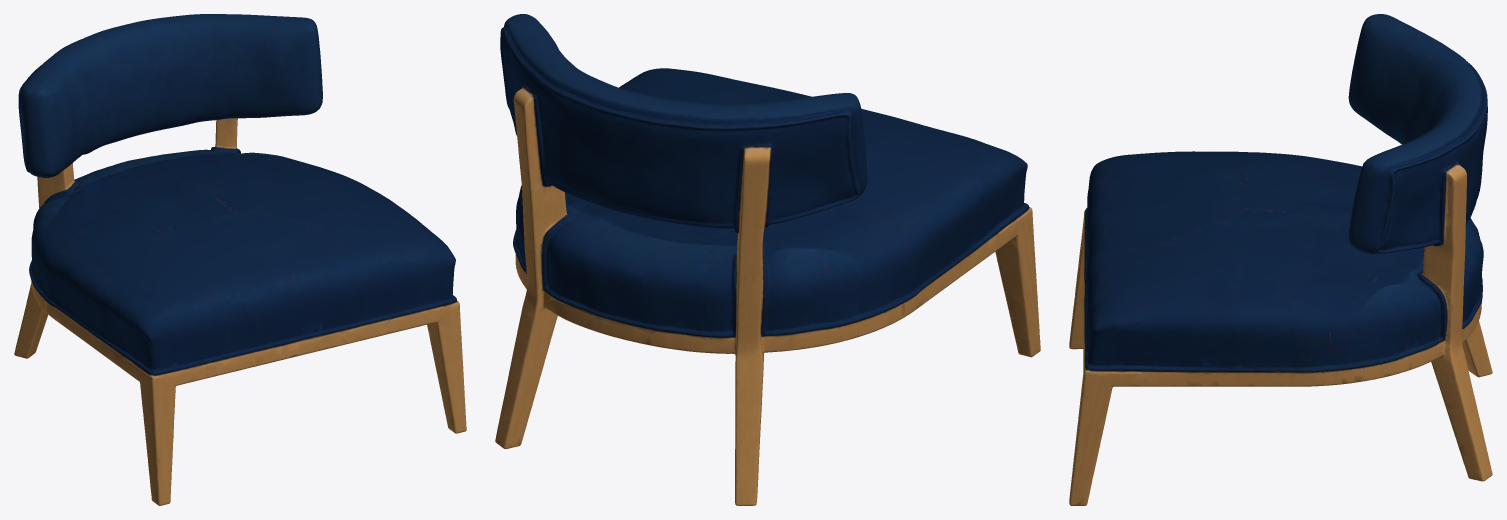
File: tri.glb
3 views of the same model, side by side, from view 1: azimuth 30°, elevation 25°; view 2: azimuth 150°, elevation 25°; view 3: azimuth 270°, elevation 25° (orthographic). The views are drawn at different scales.
Visible parts, largest first — view 1: Meshy_AI_Azure_Lounge_Chair_20261119_texture; view 2: Meshy_AI_Azure_Lounge_Chair_20261119_texture; view 3: Meshy_AI_Azure_Lounge_Chair_20261119_texture.
Boxes of the visible parts, bbox=[...] form: Meshy_AI_Azure_Lounge_Chair_20261119_texture: bbox=[14, 14, 466, 505]; Meshy_AI_Azure_Lounge_Chair_20261119_texture: bbox=[495, 14, 1040, 505]; Meshy_AI_Azure_Lounge_Chair_20261119_texture: bbox=[1069, 14, 1492, 505].
Size of the model in its own units: 0.79 by 0.74 by 0.84.
1 material, 1 textured.
